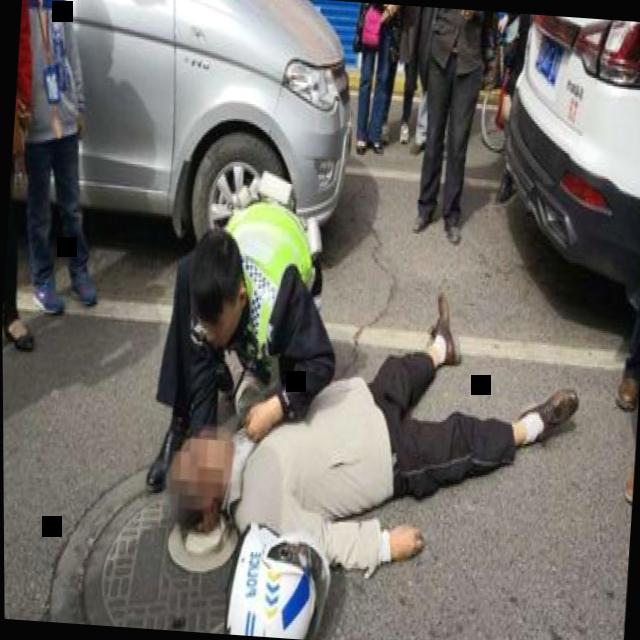Fall-Detected: (143, 259, 594, 604)
